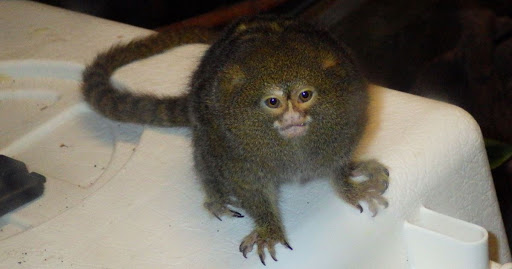PygmyMarmoset: (183, 28, 376, 214)
